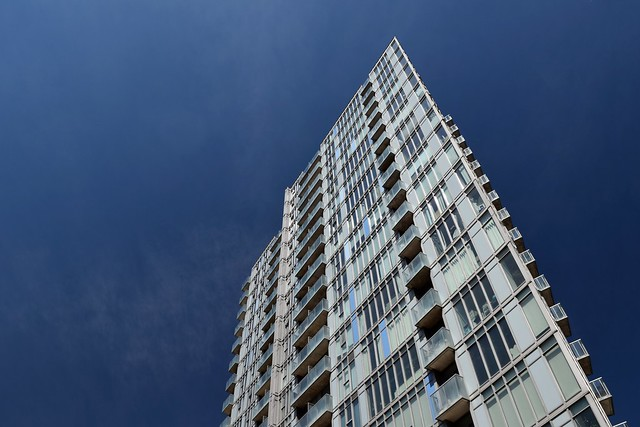medium: (217, 29, 636, 427)
